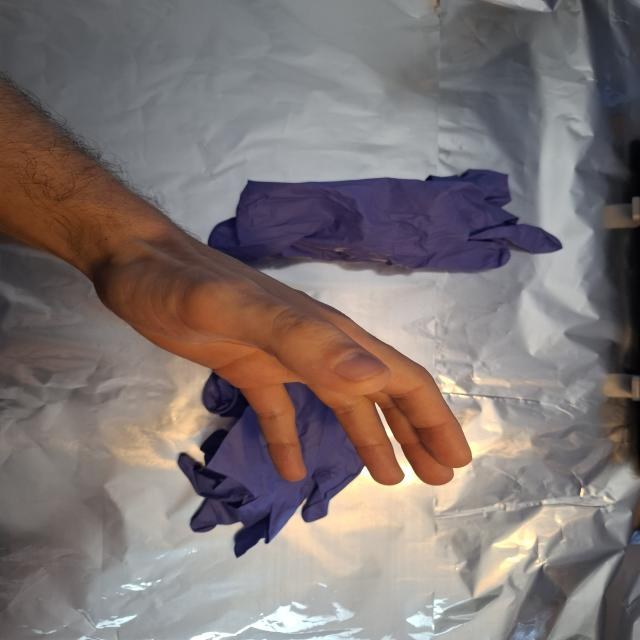glove_off: (89, 242, 476, 487)
